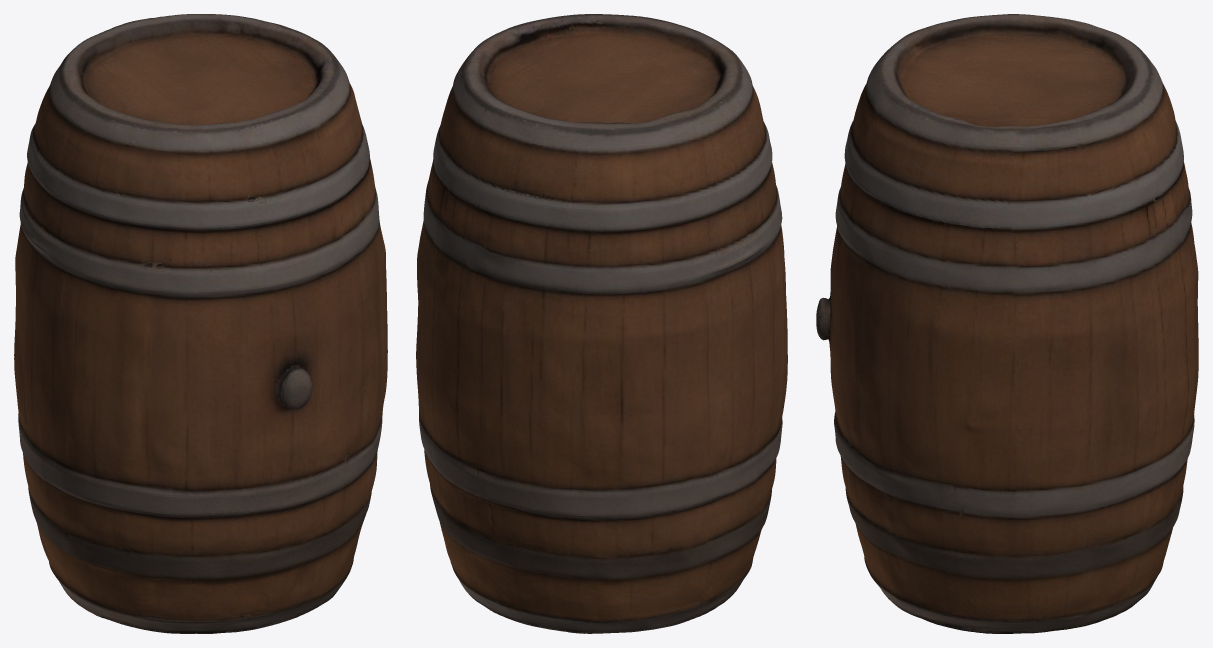
The picture shows the model from 3 angles, left to right: view 1: azimuth 30°, elevation 25°; view 2: azimuth 150°, elevation 25°; view 3: azimuth 270°, elevation 25°; orthographic projection.
Parts seen in each view (by area): view 1: Hy21_Mesh.obj; view 2: Hy21_Mesh.obj; view 3: Hy21_Mesh.obj.
Part boxes in pixels (box(x1,y1,x2,y2)): Hy21_Mesh.obj: box(14, 14, 387, 633); Hy21_Mesh.obj: box(416, 14, 787, 633); Hy21_Mesh.obj: box(816, 14, 1198, 633).
Size of the model in its own units: 1.31 by 1.96 by 1.34.
Materials: 1 (1 with a texture image).
